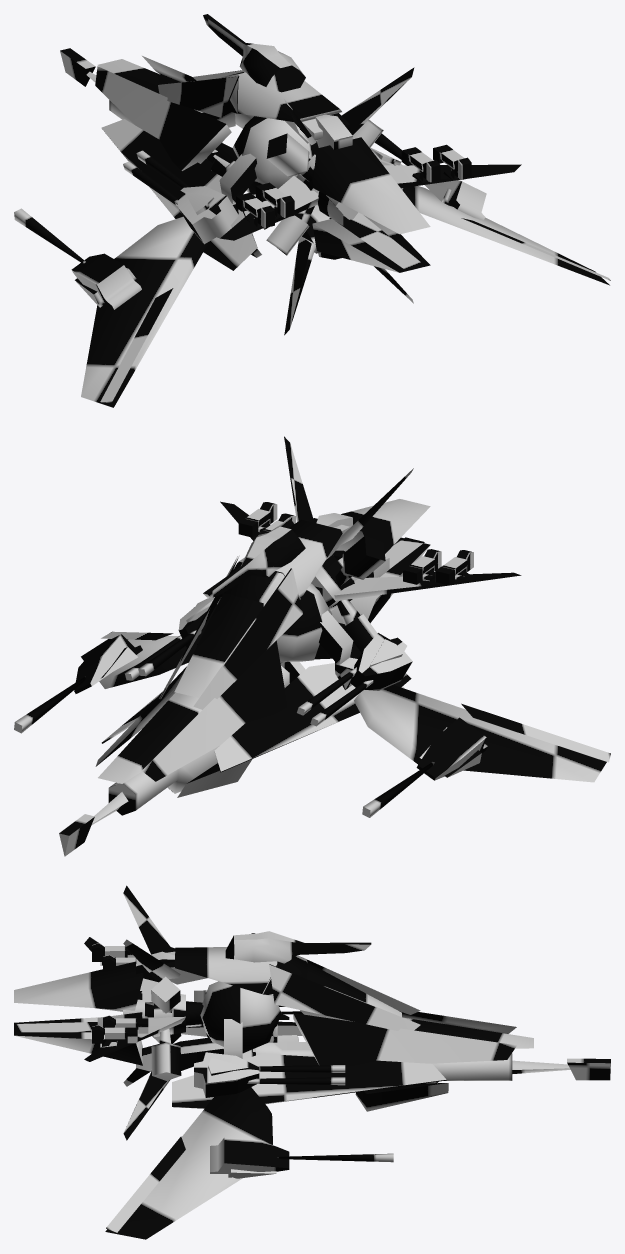
The model's file is pet_15.obj.
The picture shows the model from 3 angles, top to bottom: view 1: azimuth 30°, elevation 25°; view 2: azimuth 150°, elevation 25°; view 3: azimuth 270°, elevation 25°; orthographic projection. The views are drawn at different scales.
Parts seen in each view (by area): view 1: main; view 2: main; view 3: main.
Boxes of the visible parts, x1,y1,x2,y2 form: main: (14,14,610,407); main: (14,436,610,856); main: (14,885,610,1239).
Bounding box in the file's own units: 111 × 53.37 × 131.
1 material, 1 textured.
